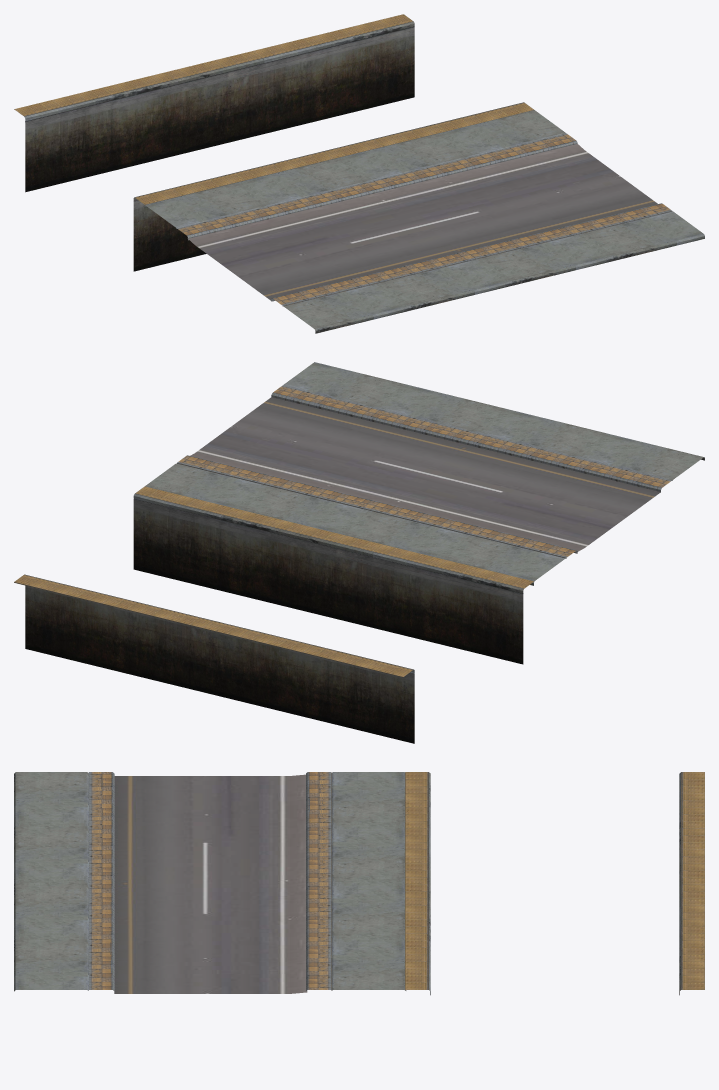
File: Concrete bits.fbx
The picture shows the model from 3 angles, top to bottom: view 1: azimuth 30°, elevation 25°; view 2: azimuth 150°, elevation 25°; view 3: azimuth 270°, elevation 25°; orthographic projection. The views are drawn at different scales.
Visible parts, largest first — view 1: Cube.005, Cube.001, Cube, Cube.002, Cube.004; view 2: Cube.004, Cube.001, Cube.005, Cube, Cube.002; view 3: Cube.001, Cube, Cube.002, Cube.004, Cube.005.
Boxes of the visible parts, left/top/right/bottom form: Cube.005: left=14, top=14, right=414, bottom=192; Cube.001: left=187, top=144, right=657, bottom=300; Cube: left=271, top=203, right=704, bottom=333; Cube.002: left=144, top=110, right=577, bottom=240; Cube.004: left=133, top=102, right=533, bottom=271; Cube.004: left=133, top=486, right=533, bottom=664; Cube.001: left=190, top=397, right=660, bottom=552; Cube.005: left=14, top=574, right=414, bottom=743; Cube: left=271, top=362, right=704, bottom=491; Cube.002: left=145, top=455, right=577, bottom=585; Cube.001: left=114, top=774, right=307, bottom=993; Cube: left=14, top=772, right=114, bottom=991; Cube.002: left=306, top=772, right=406, bottom=990; Cube.004: left=405, top=772, right=430, bottom=995; Cube.005: left=679, top=772, right=704, bottom=995.
Bounding box in the file's own units: 4000 × 736 × 5359.
